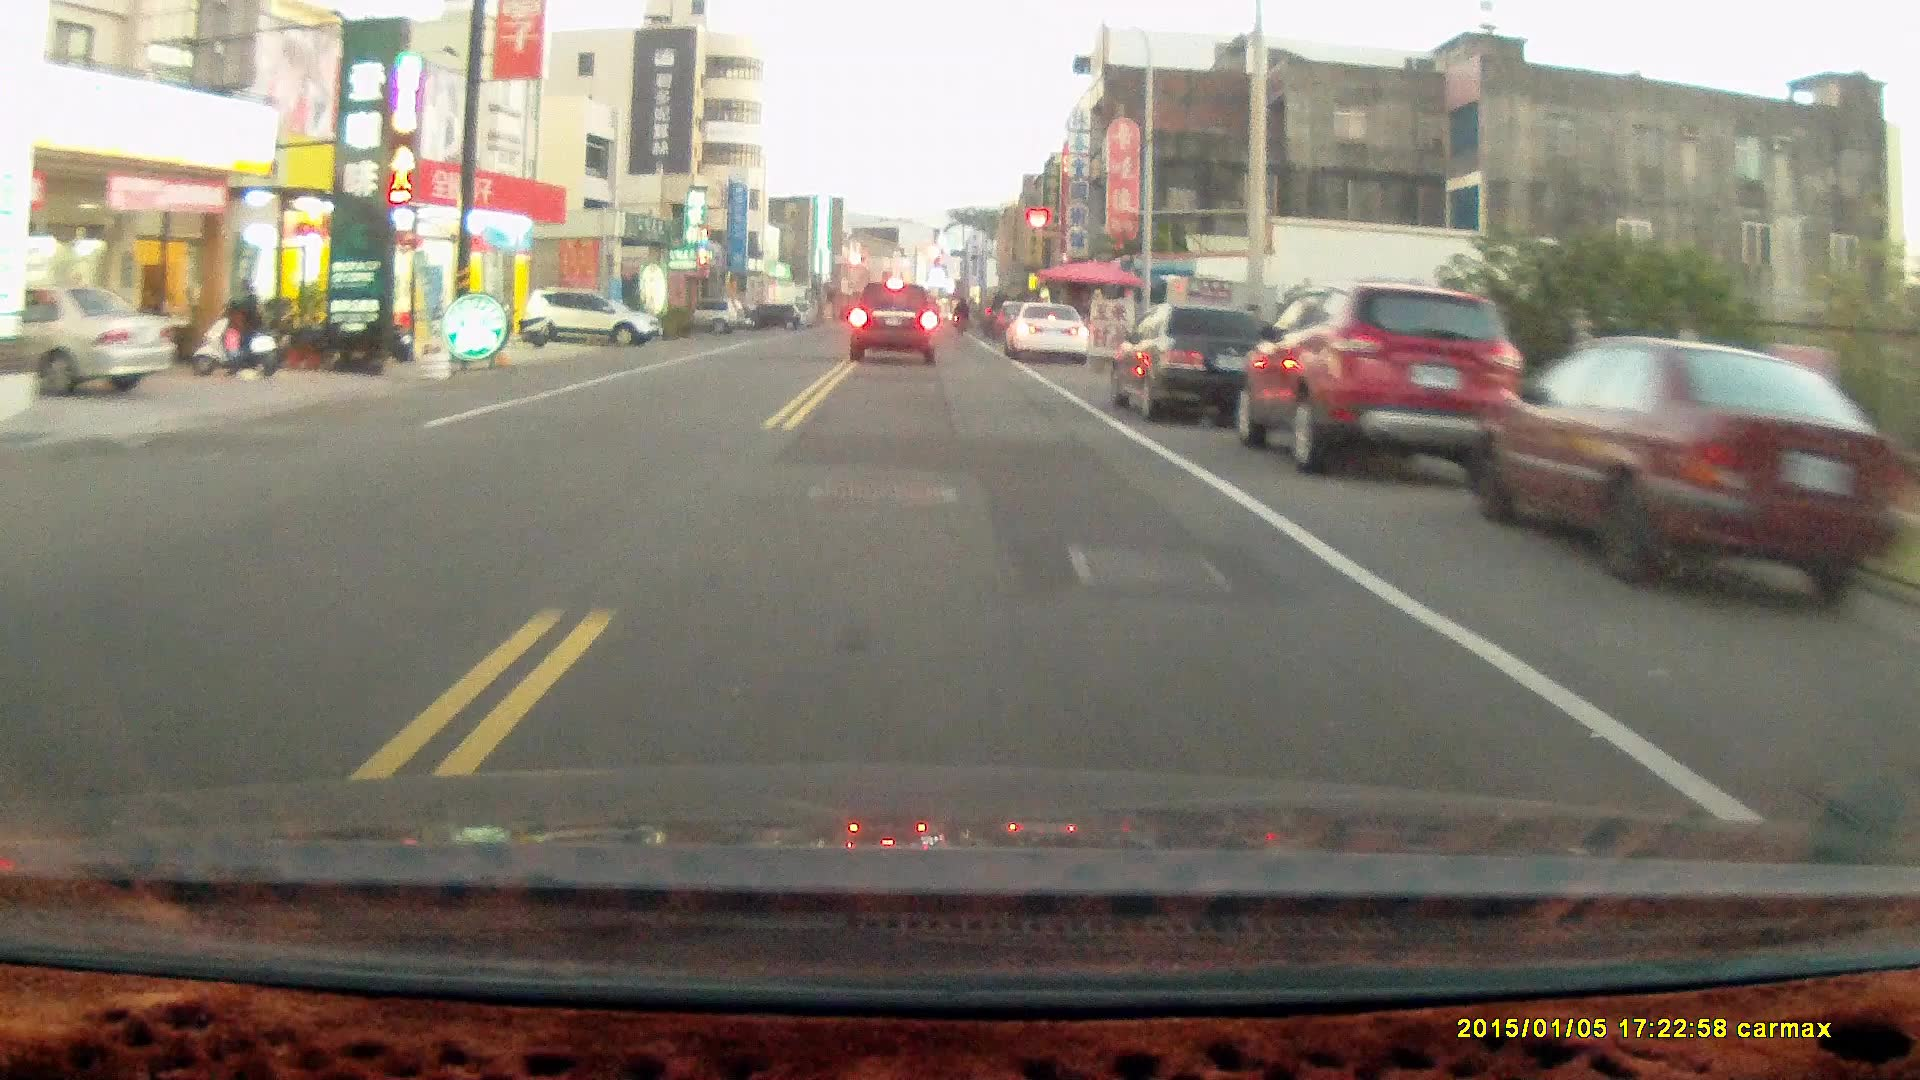vehicle: (1469, 336, 1880, 608), (1241, 278, 1536, 472), (1112, 302, 1280, 426), (1, 287, 178, 397), (524, 284, 666, 351), (848, 281, 938, 365), (1005, 301, 1091, 365)
